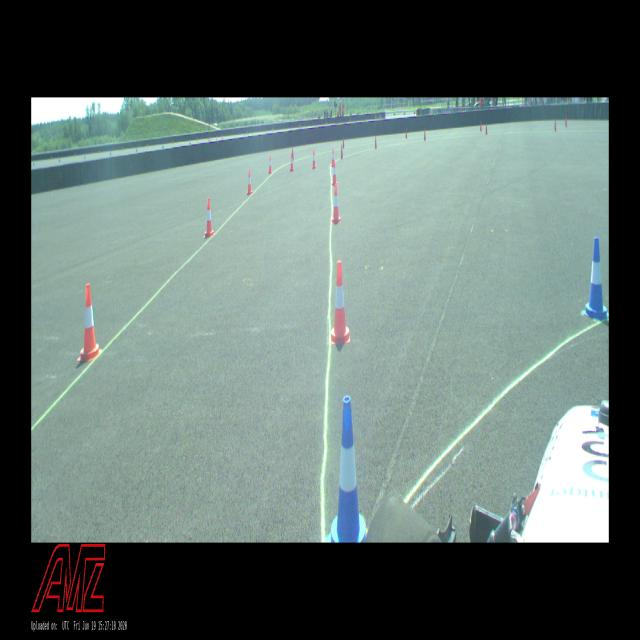blue_cone: (326, 395, 368, 543), (582, 238, 608, 322), (33, 159, 35, 166), (84, 153, 86, 159), (110, 149, 112, 155), (136, 146, 138, 152), (162, 143, 164, 148), (59, 156, 60, 163), (190, 139, 190, 144)
orange_cone: (77, 284, 102, 360), (331, 261, 350, 343), (204, 199, 214, 237), (332, 186, 340, 222), (246, 170, 252, 195), (332, 161, 338, 185), (268, 155, 272, 174), (312, 150, 316, 168), (290, 154, 294, 171), (331, 149, 334, 166)
unknown_cone: (341, 144, 343, 159), (374, 136, 376, 149), (292, 148, 294, 161), (424, 128, 426, 140), (554, 120, 556, 132), (480, 121, 482, 132), (486, 124, 488, 135), (565, 116, 567, 127), (405, 128, 407, 138), (343, 138, 344, 148)
yellow_cone: (122, 147, 124, 153), (196, 137, 198, 143), (51, 157, 53, 162), (99, 150, 100, 156), (147, 143, 148, 149), (75, 154, 76, 159), (172, 141, 173, 146)
